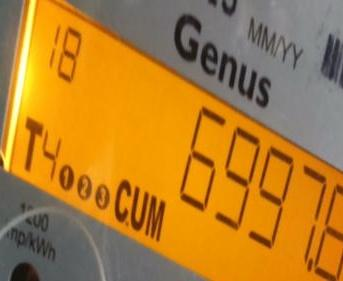0: (306, 259, 314, 271)
7: (175, 106, 225, 215)
8: (289, 164, 328, 277)
9: (312, 179, 343, 281)
:: (247, 145, 302, 250), (213, 126, 262, 228)
